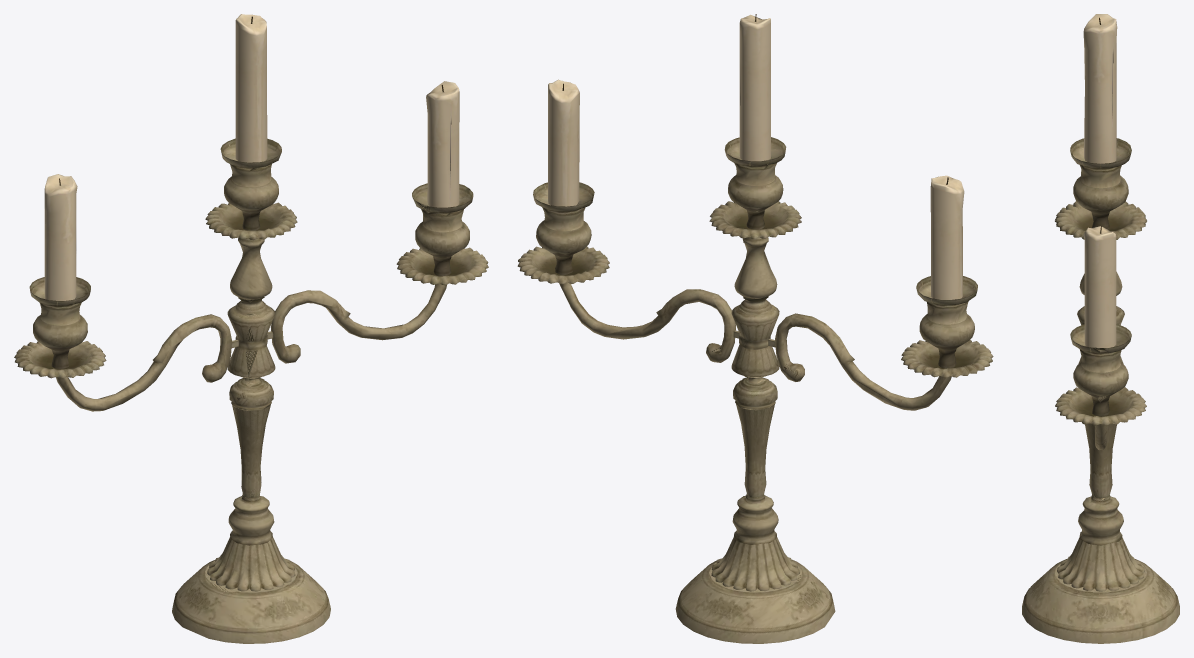
Rendered from candelabra.glb.
The picture shows the model from 3 angles, left to right: view 1: azimuth 30°, elevation 25°; view 2: azimuth 150°, elevation 25°; view 3: azimuth 270°, elevation 25°; orthographic projection.
Parts seen in each view (by area): view 1: A_Candelabra, A_Candle, A_Candle1, A_Candle2; view 2: A_Candelabra, A_Candle, A_Candle2, A_Candle1; view 3: A_Candelabra, A_Candle, A_Candle2.
Part boxes in pixels (x1,y1,x2,y2): A_Candelabra: [14, 138, 488, 643]; A_Candle: [235, 14, 267, 162]; A_Candle1: [44, 174, 77, 300]; A_Candle2: [426, 81, 459, 207]; A_Candelabra: [517, 137, 993, 643]; A_Candle: [739, 14, 770, 161]; A_Candle2: [548, 79, 579, 206]; A_Candle1: [930, 175, 964, 299]; A_Candelabra: [1022, 138, 1179, 643]; A_Candle: [1083, 14, 1117, 163]; A_Candle2: [1083, 226, 1116, 347].
Size of the model in its own units: 0.3105 by 0.3815 by 0.0921.
Materials: 2 (2 with a texture image).
